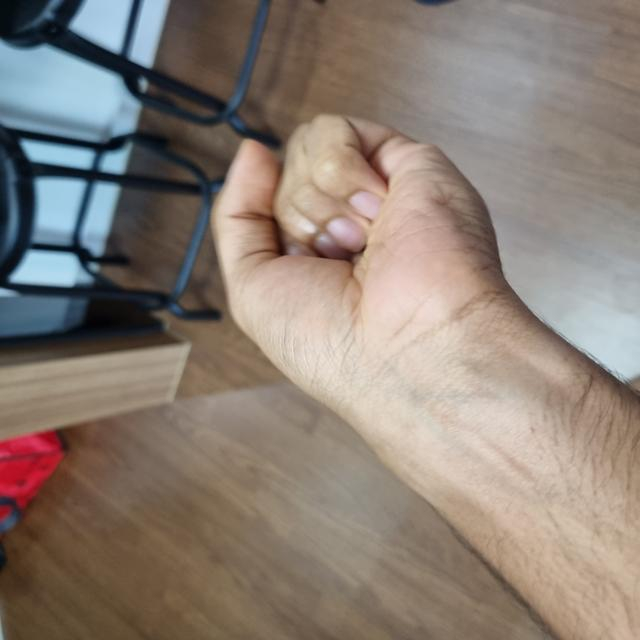Rock: (239, 222, 514, 508)
